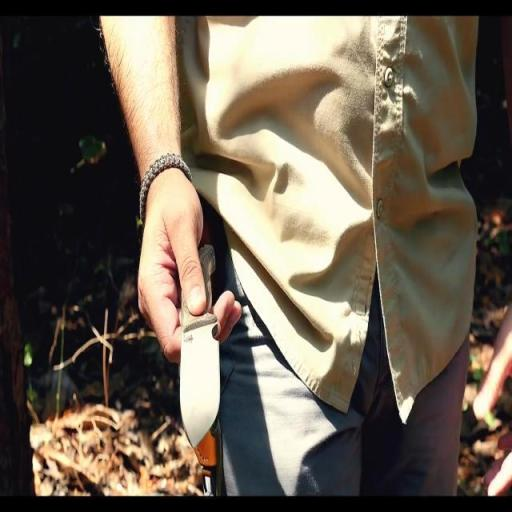knife: (135, 241, 246, 453)
